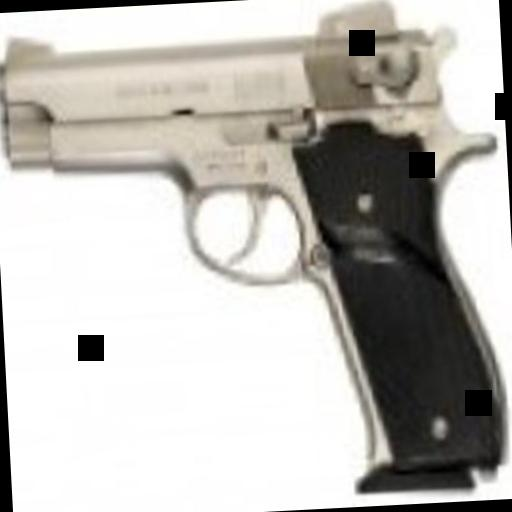Handgun: (0, 8, 508, 512)
